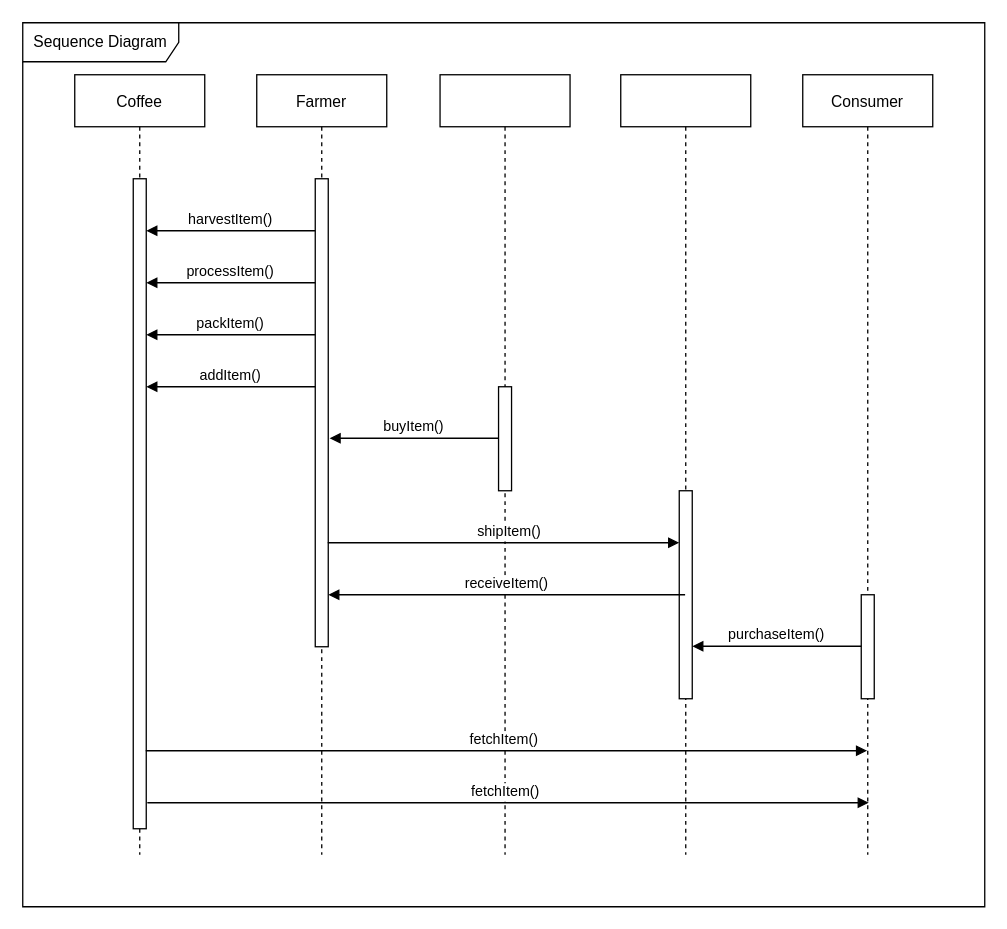
Some shapes in this 1007 by 929 pixel diagram are drawn without their labels. The centre of each missing label's shape, as x and y in pixels:
"Distributor" belongs at (x=504, y=464).
"Retailer" belongs at (x=685, y=464).
